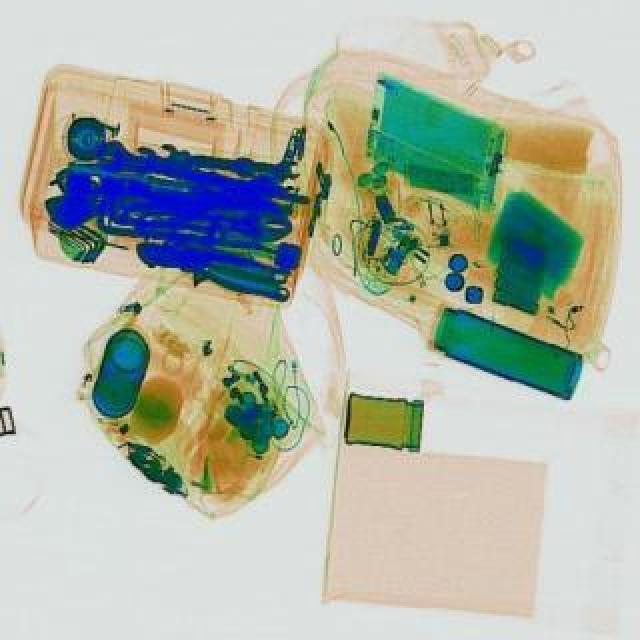scissors: (160, 140, 306, 180), (132, 140, 216, 188)
wrench: (134, 232, 298, 302)
